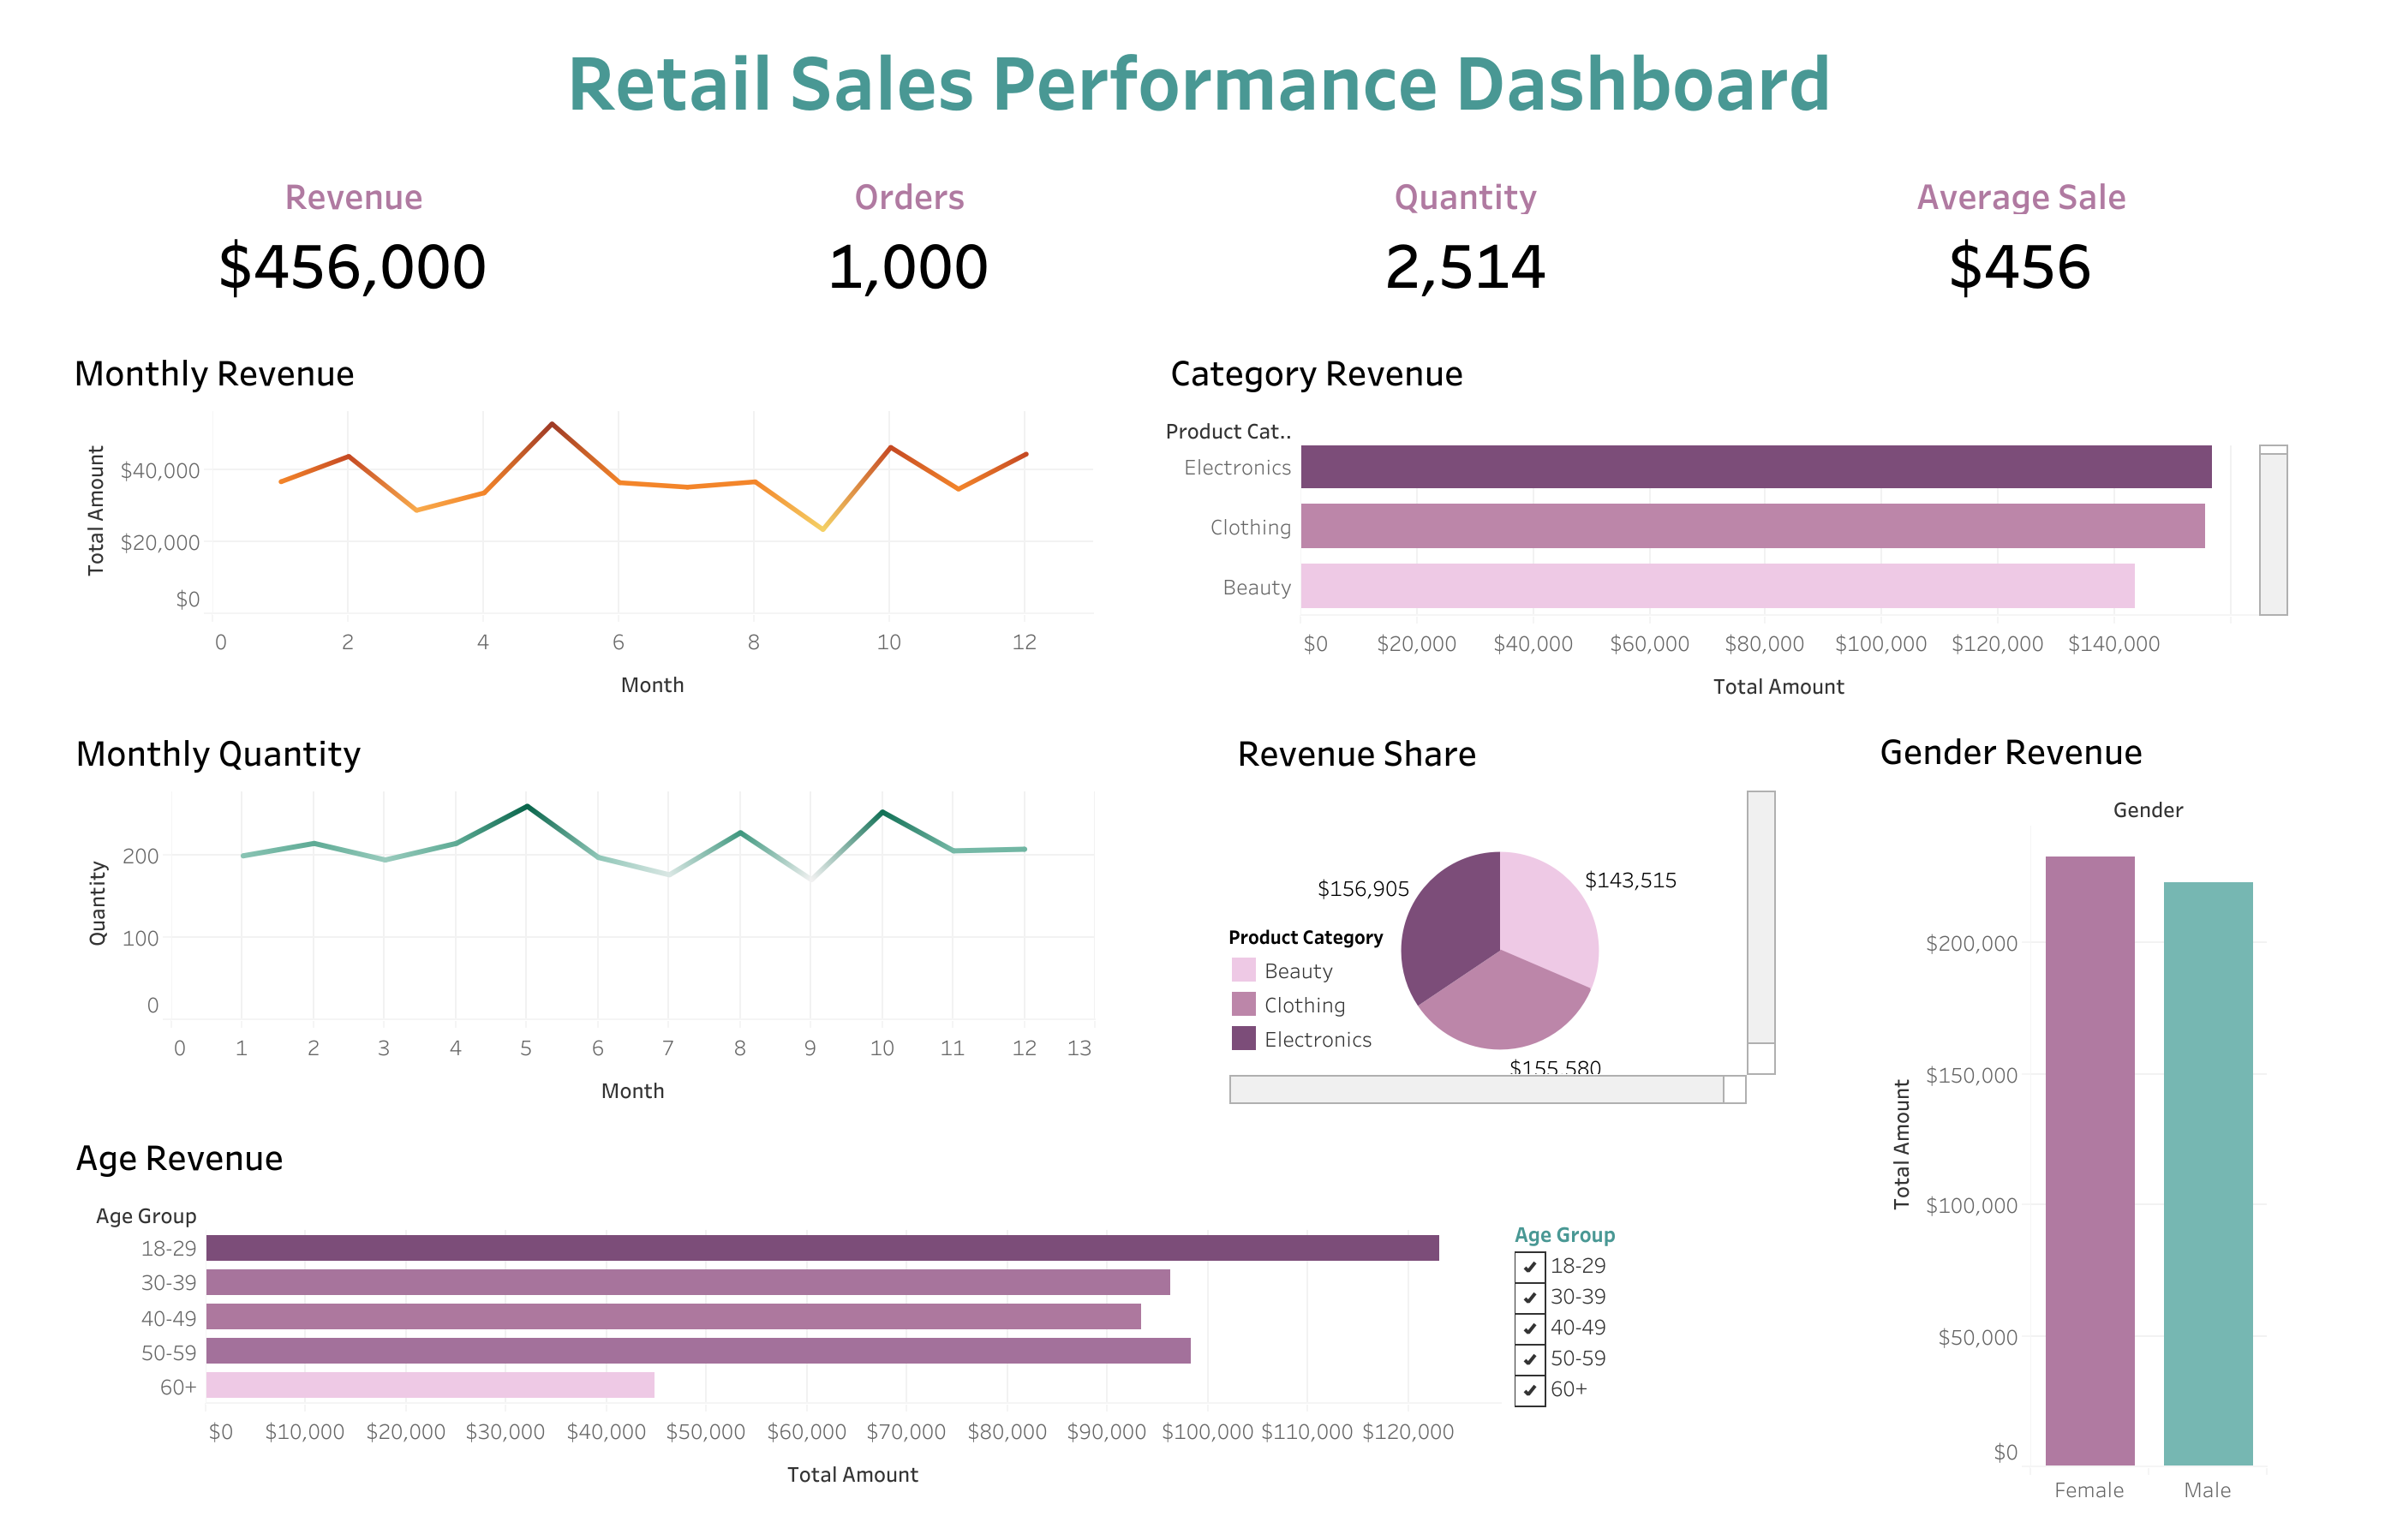

What the dashboard file says about the page in this screenshot:
{"tool":"tableau","page":{"name":"Retail Sales Dashboard","canvas":[1400,900],"ordinal":1},"visuals":[{"type":"text","box":[1,12,1398,69]},{"type":"worksheet","title":"KPI Summary","mark":"Automatic","box":[44,104,1298,79]},{"type":"worksheet","title":"Monthly Revenue","mark":"Line","rows":["total_amount"],"cols":["month"],"box":[39,197,599,218]},{"type":"worksheet","title":"Category Revenue","mark":"Bar","rows":["product_category"],"cols":["total_amount"],"box":[679,197,657,219]},{"type":"worksheet","title":"Gender Revenue","mark":"Bar","rows":["total_amount"],"cols":["gender"],"box":[1093,418,230,460]},{"type":"worksheet","title":"Monthly Quantity","mark":"Automatic","rows":["quantity"],"cols":["month"],"box":[40,419,599,233]},{"type":"worksheet","title":"Revenue Share","mark":"Pie","box":[718,419,319,226]},{"type":"legend","title":"Revenue Share","param":"[federated.1h2utsd09n5obi17jd5an1szkrqj].[none:product_category:nk]","box":[716,537,96,78]},{"type":"worksheet","title":"Age Revenue","mark":"Automatic","rows":["Calculation_3201918614977015808"],"cols":["total_amount"],"box":[40,655,836,221]},{"type":"filter","title":"Age Revenue","param":"[federated.1h2utsd09n5obi17jd5an1szkrqj].[none:Calculation_3201918614977015808:n","box":[884,710,81,138]}]}

Visuals, with their boxes in screenshot pixels (x1, y1, x2, y2), scaled from the page's 1400x900 canvas onto the 2397x1540 screenshot:
text: {"left": 2, "top": 21, "right": 2395, "bottom": 139}
"KPI Summary" worksheet: {"left": 75, "top": 178, "right": 2298, "bottom": 313}
"Monthly Revenue" worksheet (Line marks): {"left": 67, "top": 337, "right": 1092, "bottom": 710}
"Category Revenue" worksheet (Bar marks): {"left": 1163, "top": 337, "right": 2287, "bottom": 712}
"Gender Revenue" worksheet (Bar marks): {"left": 1871, "top": 715, "right": 2265, "bottom": 1502}
"Monthly Quantity" worksheet: {"left": 69, "top": 717, "right": 1094, "bottom": 1116}
"Revenue Share" worksheet (Pie marks): {"left": 1229, "top": 717, "right": 1776, "bottom": 1104}
"Revenue Share" legend: {"left": 1226, "top": 919, "right": 1390, "bottom": 1053}
"Age Revenue" worksheet: {"left": 69, "top": 1121, "right": 1500, "bottom": 1499}
"Age Revenue" filter: {"left": 1514, "top": 1215, "right": 1653, "bottom": 1451}
